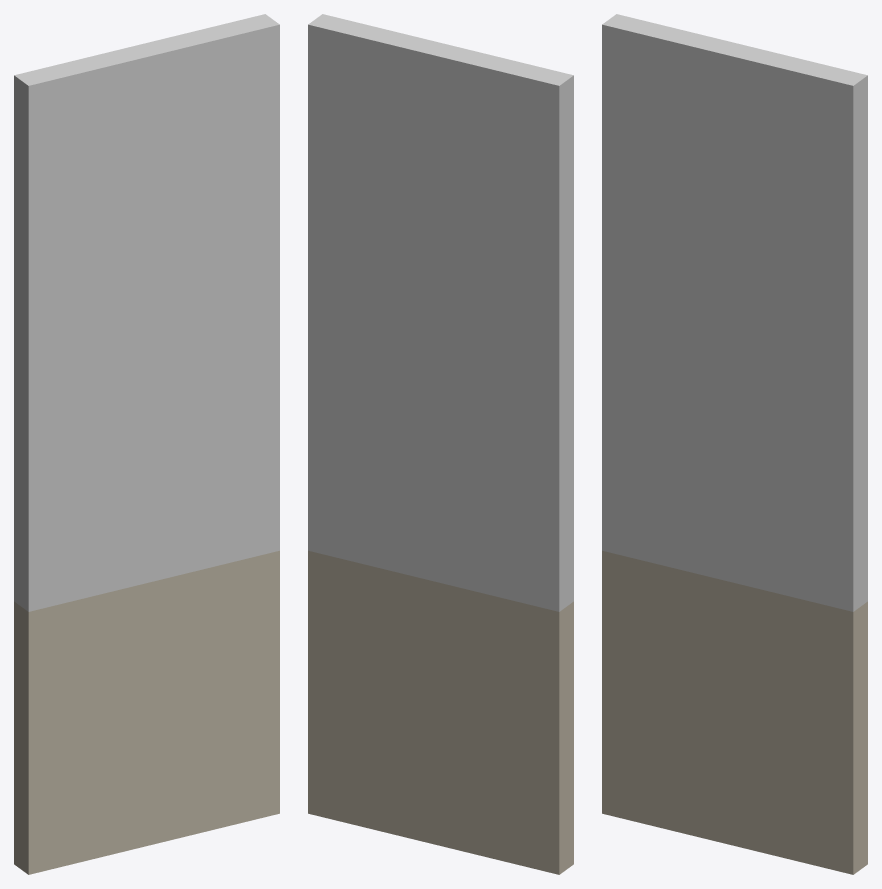
Rendered from Mesh_Wall2Colors_B1.fbx.
The picture shows the model from 3 angles, left to right: view 1: azimuth 30°, elevation 25°; view 2: azimuth 150°, elevation 25°; view 3: azimuth 330°, elevation 25°; orthographic projection.
Visible parts, largest first — view 1: Mesh_Wall2Colors_B1; view 2: Mesh_Wall2Colors_B1; view 3: Mesh_Wall2Colors_B1.
Part boxes in pixels (bbox=[...]): Mesh_Wall2Colors_B1: bbox=[14, 14, 279, 874]; Mesh_Wall2Colors_B1: bbox=[308, 14, 573, 874]; Mesh_Wall2Colors_B1: bbox=[602, 14, 867, 874].
Bounding box in the file's own units: 1 × 3 × 0.1.
